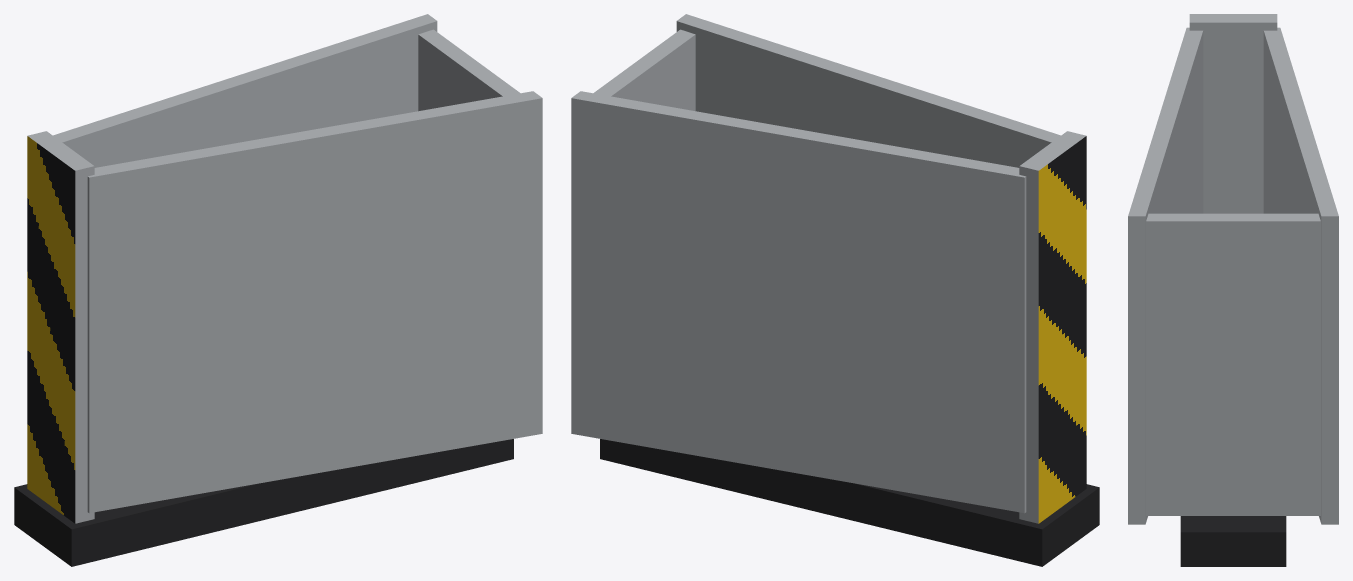
The model's file is crash_cushion_nose_inv.obj.
3 views of the same model, side by side, from view 1: azimuth 30°, elevation 25°; view 2: azimuth 150°, elevation 25°; view 3: azimuth 270°, elevation 25° (orthographic). The views are drawn at different scales.
Parts seen in each view (by area): view 1: crash_cushion_nose_inv; view 2: crash_cushion_nose_inv; view 3: crash_cushion_nose_inv.
Boxes of the visible parts, bbox=[...] form: crash_cushion_nose_inv: bbox=[14, 14, 542, 566]; crash_cushion_nose_inv: bbox=[571, 14, 1099, 566]; crash_cushion_nose_inv: bbox=[1128, 14, 1338, 566].
Size of the model in its own units: 1 by 0.8438 by 0.45.
